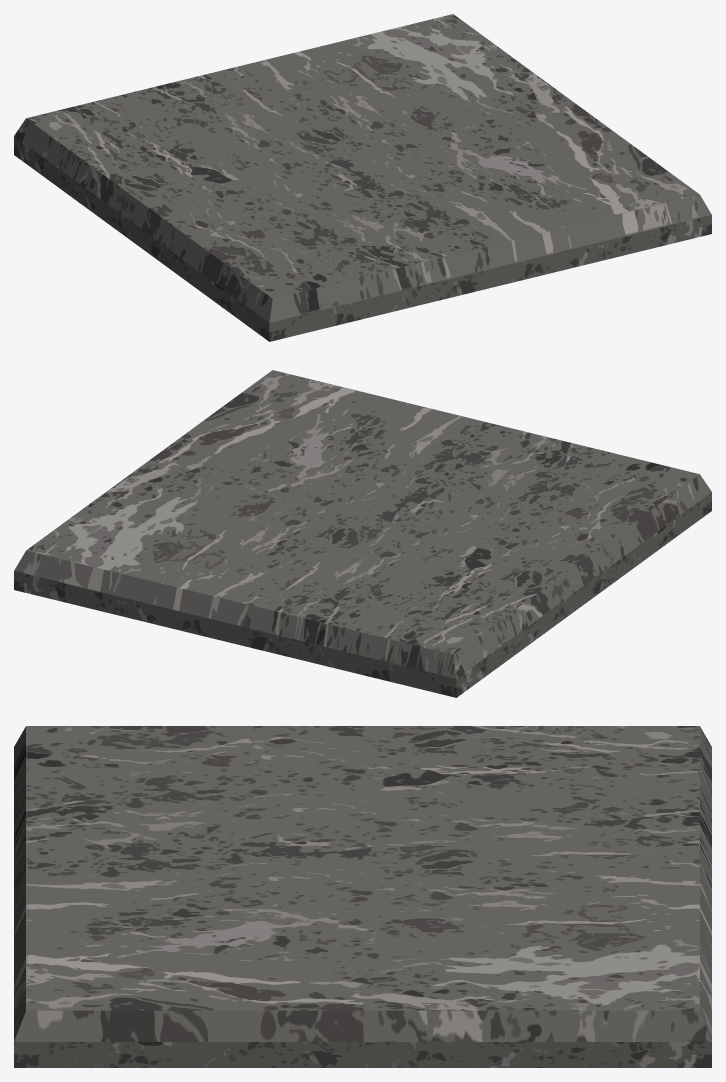
Rendered from 3dmodel_marblecoolingpad_v1_sc.fbx.
3 views of the same model, one above another, from view 1: azimuth 30°, elevation 25°; view 2: azimuth 150°, elevation 25°; view 3: azimuth 270°, elevation 25° (orthographic). The views are drawn at different scales.
Parts seen in each view (by area): view 1: marble_cooling_pad_model; view 2: marble_cooling_pad_model; view 3: marble_cooling_pad_model.
Boxes of the visible parts, box(x1,y1,x2,y2) form: marble_cooling_pad_model: box(14, 14, 711, 341); marble_cooling_pad_model: box(14, 370, 711, 697); marble_cooling_pad_model: box(14, 726, 711, 1067).
Bounding box in the file's own units: 0.1992 × 0.0164 × 0.1992.
